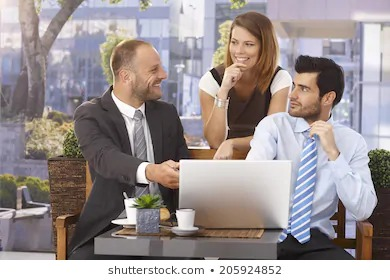F_M_suit jacket: (73, 98, 182, 242)
F_tie: (291, 123, 315, 242), (132, 102, 152, 192)
